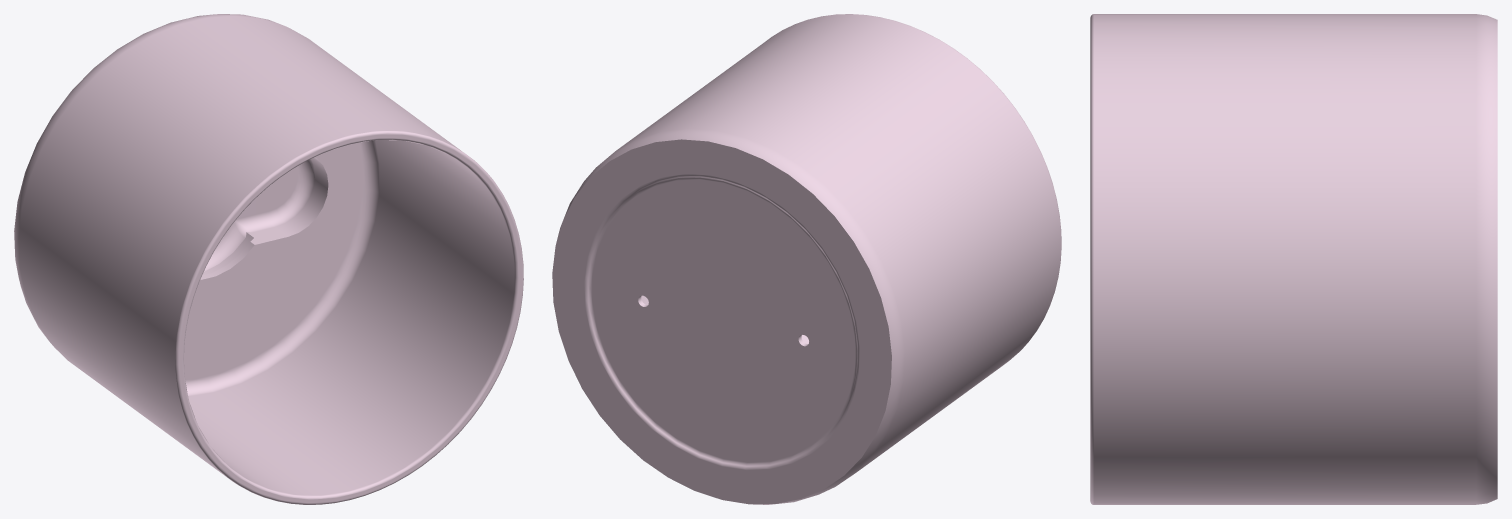
3 views of the same model, side by side, from view 1: azimuth 30°, elevation 25°; view 2: azimuth 150°, elevation 25°; view 3: azimuth 270°, elevation 25° (orthographic). The views are drawn at different scales.
Parts seen in each view (by area): view 1: O24; view 2: O24; view 3: O24.
Part boxes in pixels (x1=…): O24: x1=14, y1=14, x2=523, y2=504; O24: x1=552, y1=14, x2=1061, y2=504; O24: x1=1090, y1=14, x2=1497, y2=504.
Bounding box in the file's own units: 8.27 × 8.28 × 6.86.
